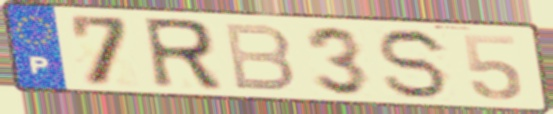3: (303, 24, 373, 98)
5: (458, 32, 525, 102)
7: (69, 13, 135, 89)
B: (220, 21, 298, 94)
R: (139, 15, 227, 94)
S: (375, 27, 454, 101)
